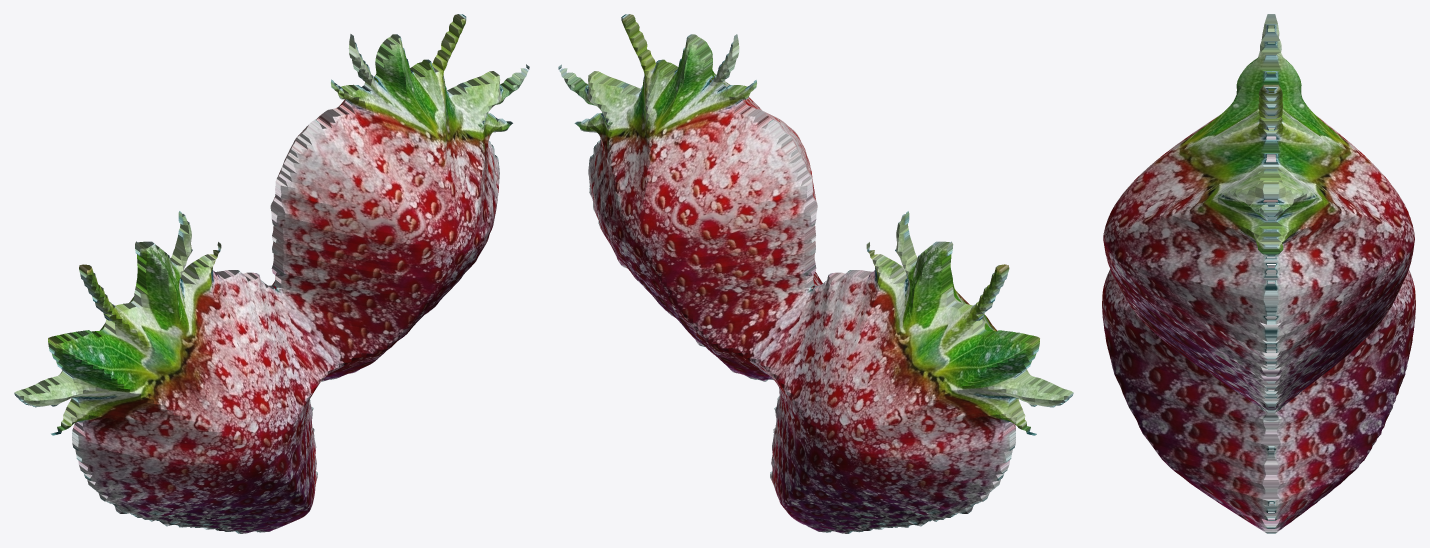
The model's file is strawberry.glb.
3 renders of one model, left to right at view 1: azimuth 30°, elevation 25°; view 2: azimuth 150°, elevation 25°; view 3: azimuth 270°, elevation 25°, orthographic. The views are drawn at different scales.
Parts seen in each view (by area): view 1: Strawberry; view 2: Strawberry; view 3: Strawberry.
Part boxes in pixels (box(x1,y1,x2,y2)): Strawberry: box(14, 14, 529, 533); Strawberry: box(558, 14, 1073, 533); Strawberry: box(1102, 14, 1415, 533).
Size of the model in its own units: 2.47 by 2.19 by 1.11.
Materials: 1 (1 with a texture image).
